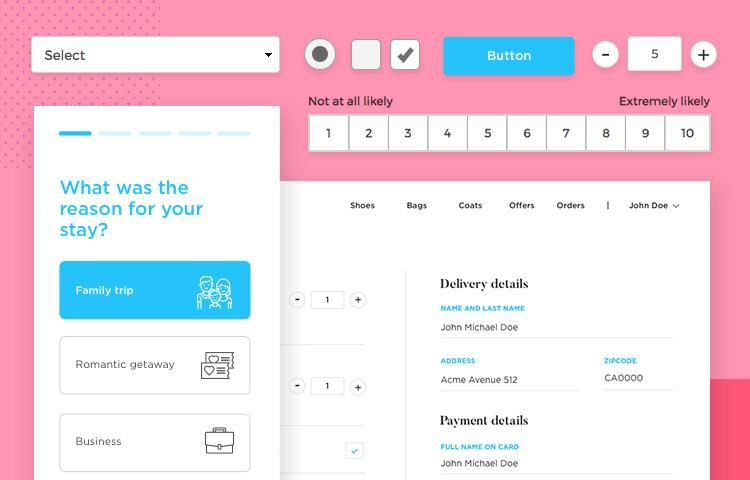button: (60, 262, 252, 321), (60, 414, 252, 472), (60, 337, 251, 395), (445, 38, 576, 77)
checkbox: (352, 41, 382, 71), (392, 41, 420, 70), (347, 444, 366, 460)
dropdown: (34, 36, 281, 76)
icon: (698, 47, 713, 64), (599, 50, 614, 61)
input: (629, 36, 684, 73)
radio: (305, 39, 338, 73)
